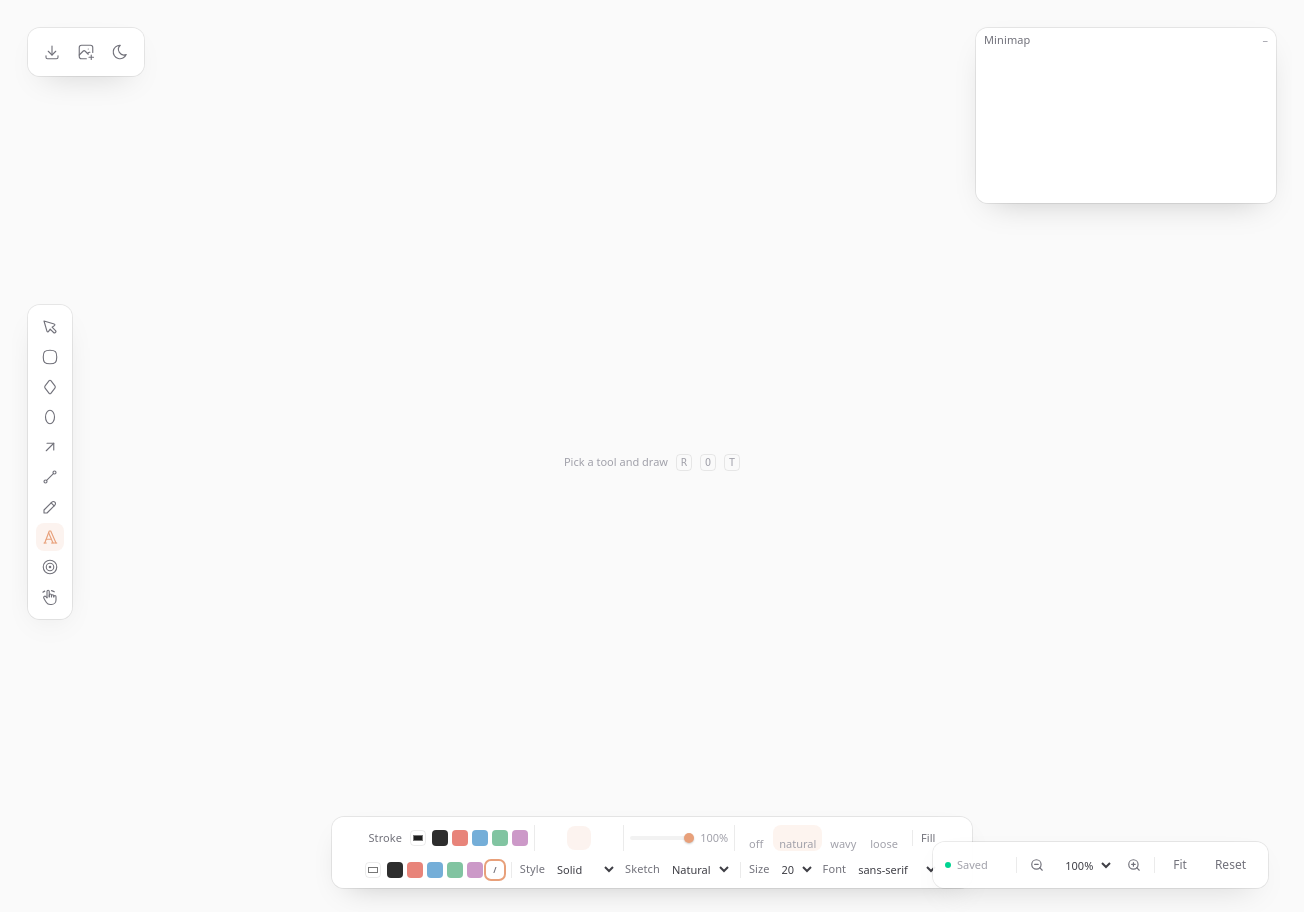
Test: text tool flow › typing then pressing enter commits, double-click reopens with content
The width and height of the screenshot is (1304, 912).
Press the mouse on the drawing named "Drawing canvas. Press V for select, R for rectangle, T for t": (652, 462) [12,12,1292,911]
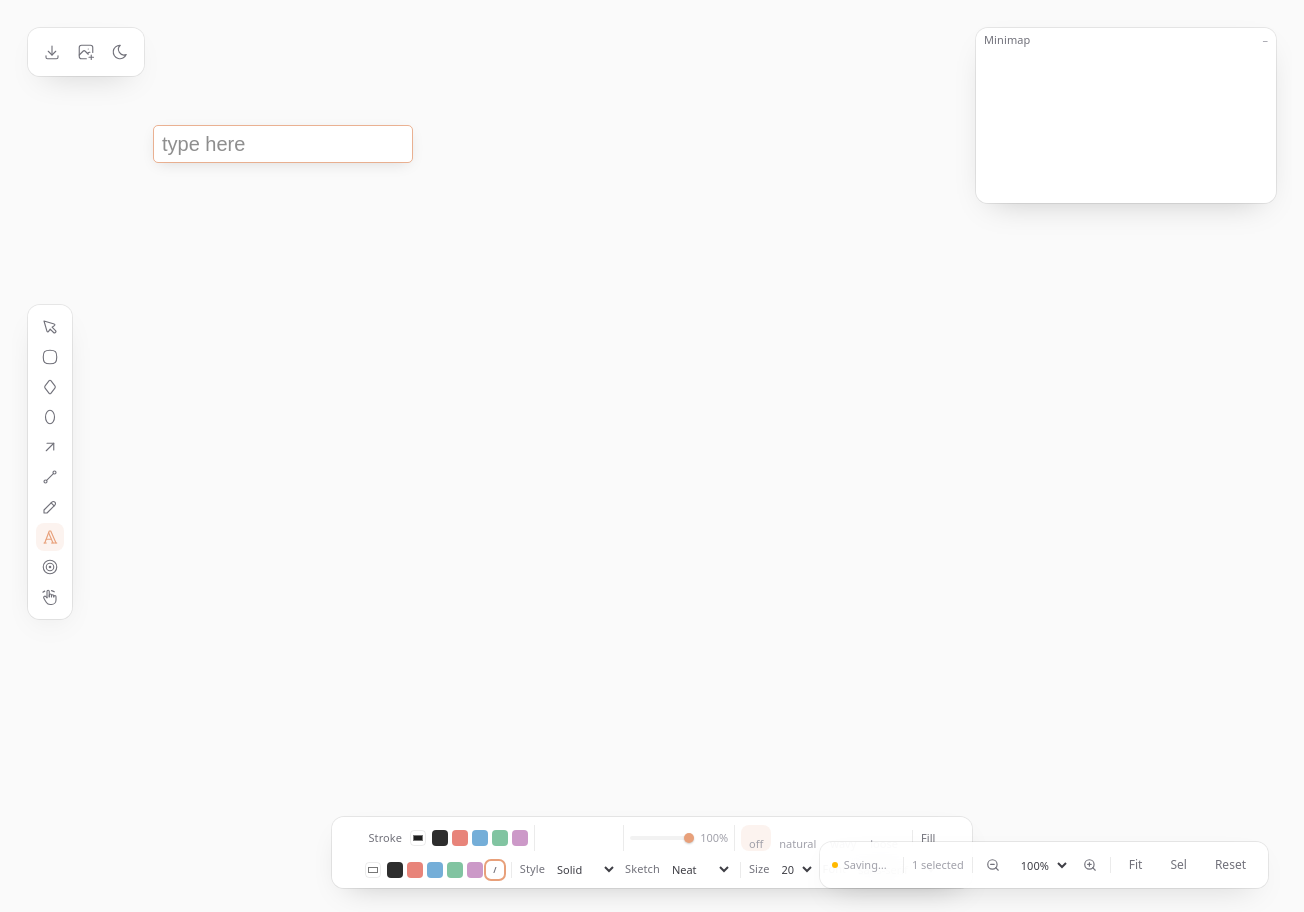
In the text box: (283, 144) [154,126,412,162], type "hello"
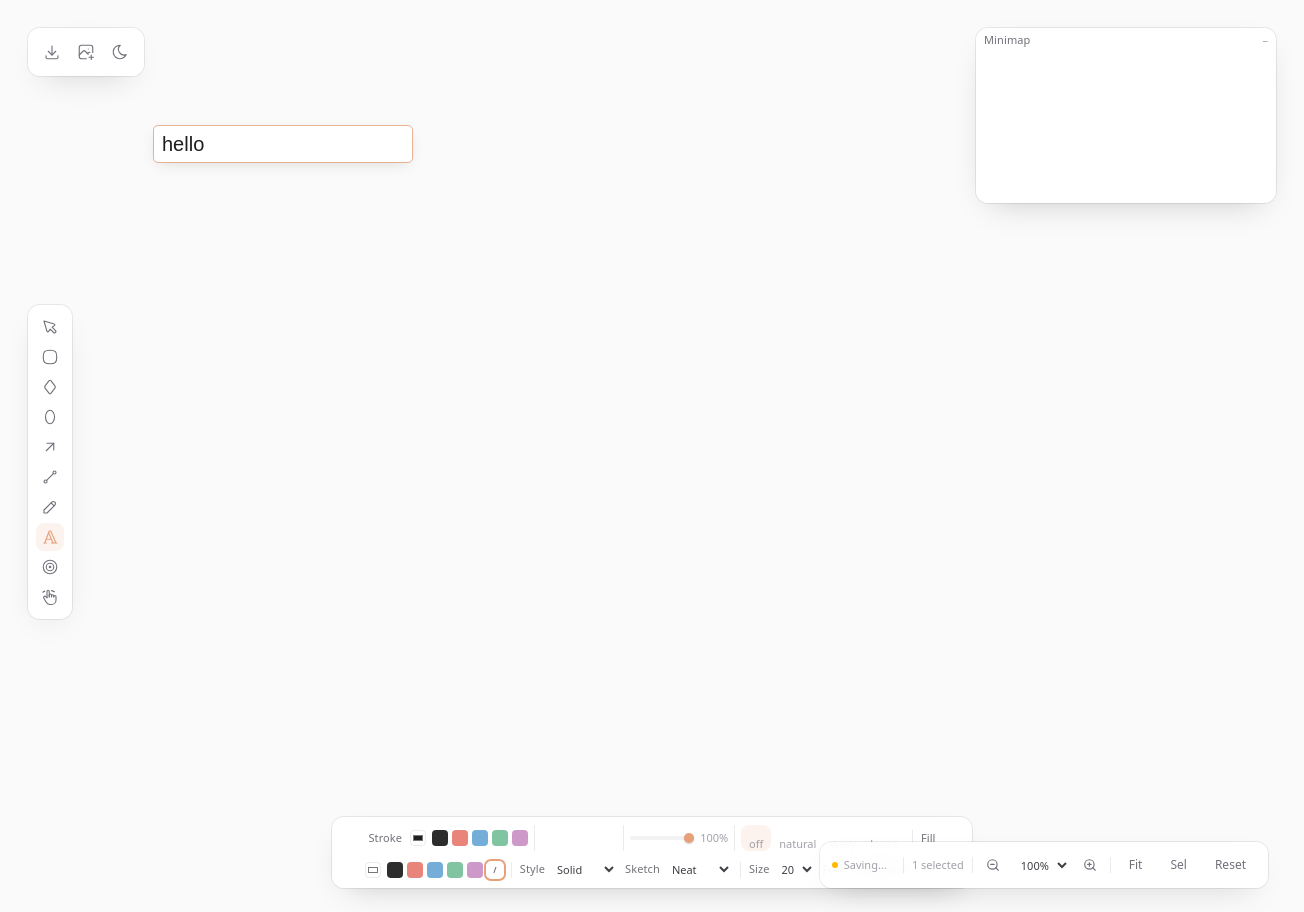
Press Enter in the text box, box [154,126,412,162]
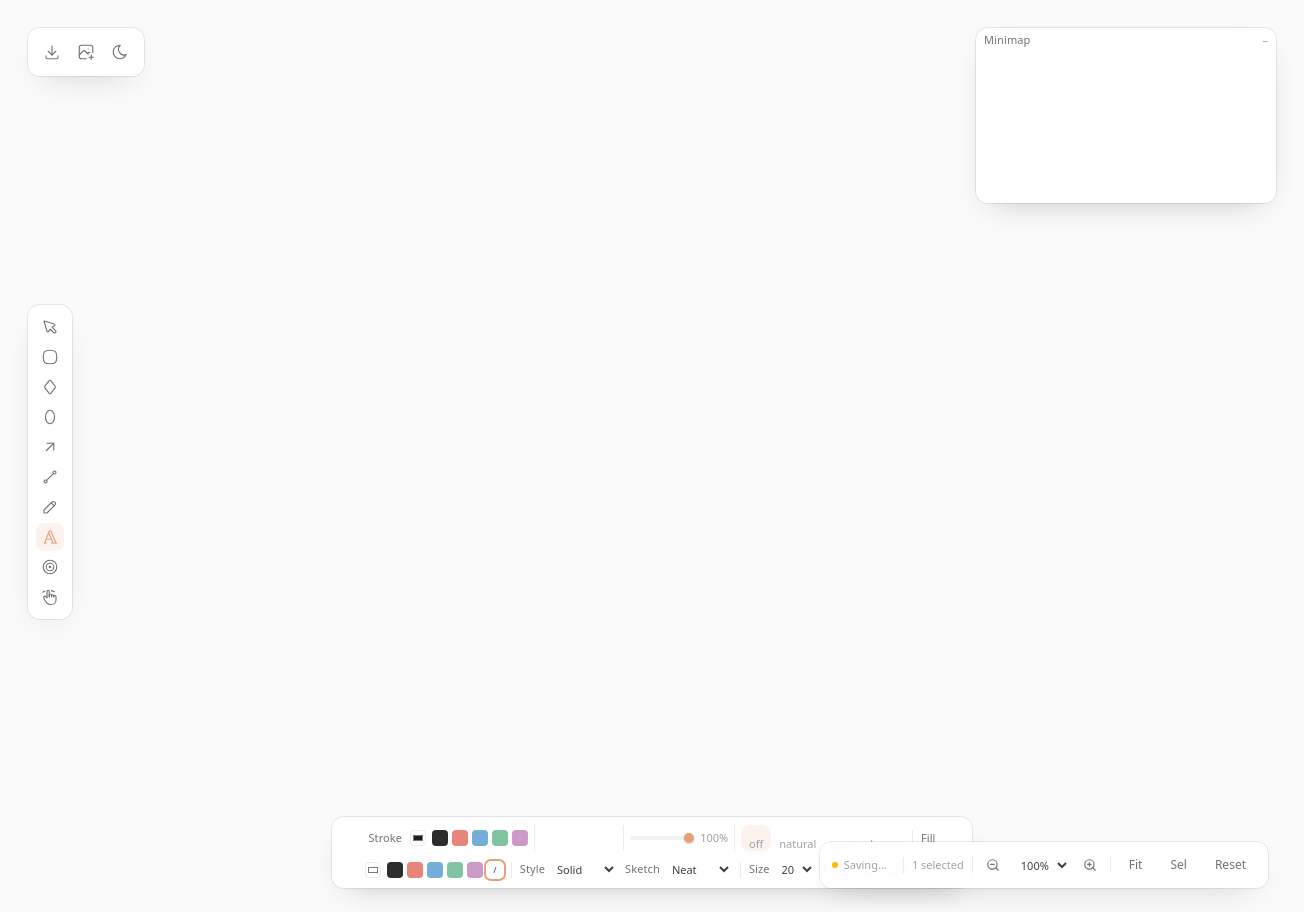
Double-click the drawing named "Drawing canvas. Press V for select, R for rectangle, T for t": (652, 462) [12,12,1292,911]
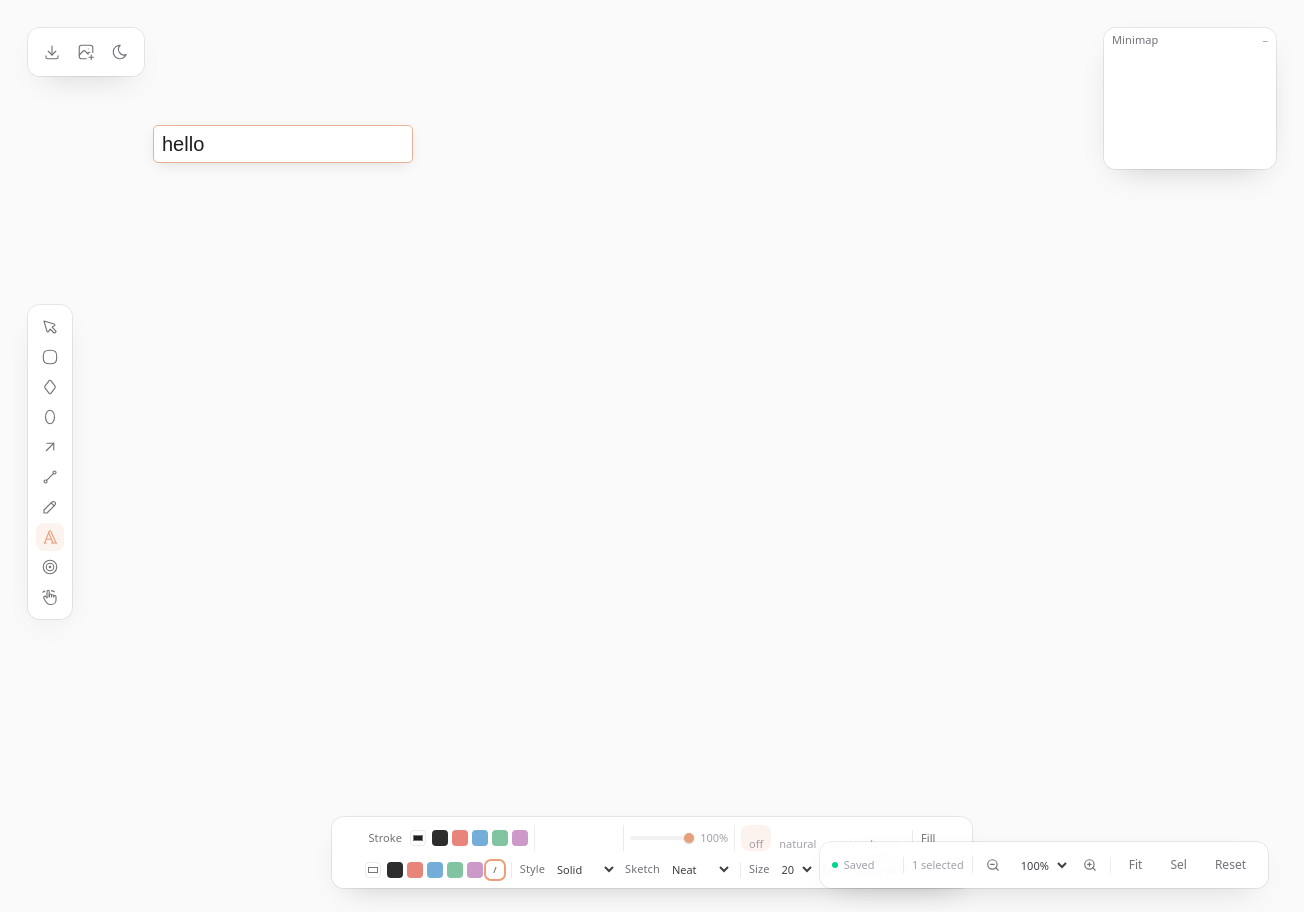
Check: the text box holds "hello", box [154,126,412,162]
